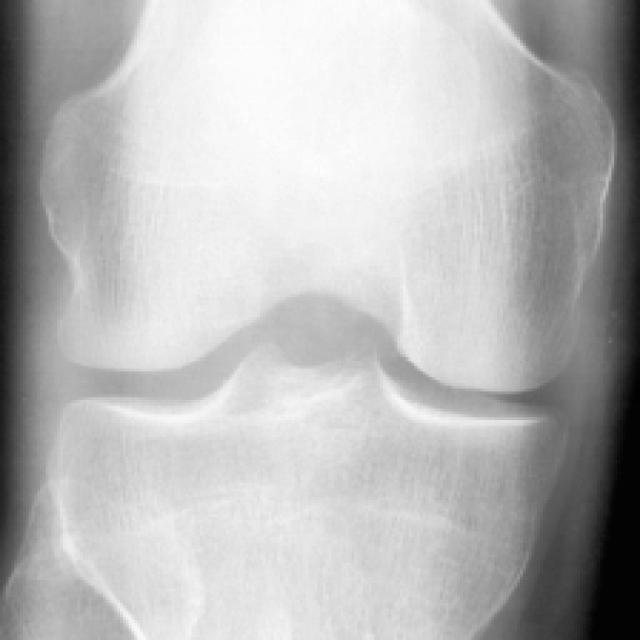femur: (46, 1, 609, 389)
tibia: (52, 342, 552, 637)
